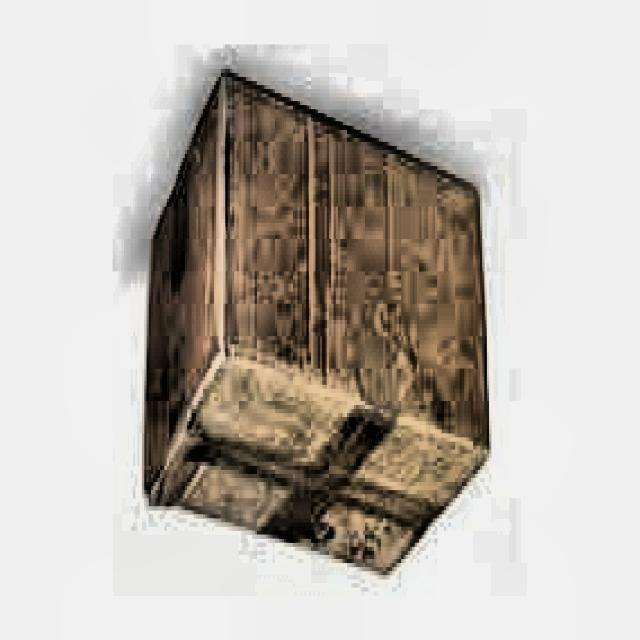cardboard: (142, 72, 494, 584)
